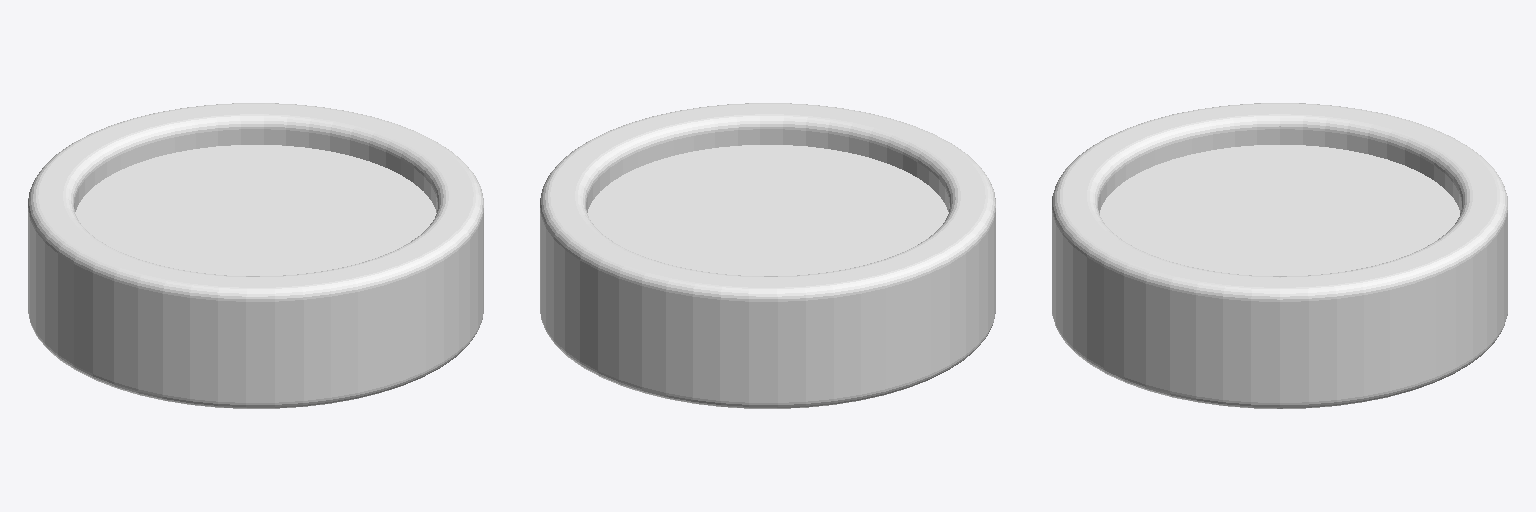
The model's file is Tablet.obj.
The picture shows the model from 3 angles: view 1: azimuth 30°, elevation 25°; view 2: azimuth 150°, elevation 25°; view 3: azimuth 270°, elevation 25°; orthographic projection.
Visible parts, largest first — view 1: Cylinder; view 2: Cylinder; view 3: Cylinder.
Boxes of the visible parts, x1=… form: Cylinder: x1=28, y1=103, x2=483, y2=408; Cylinder: x1=540, y1=103, x2=995, y2=408; Cylinder: x1=1052, y1=103, x2=1507, y2=408.
Bounding box in the file's own units: 19.82 × 5.76 × 19.78.